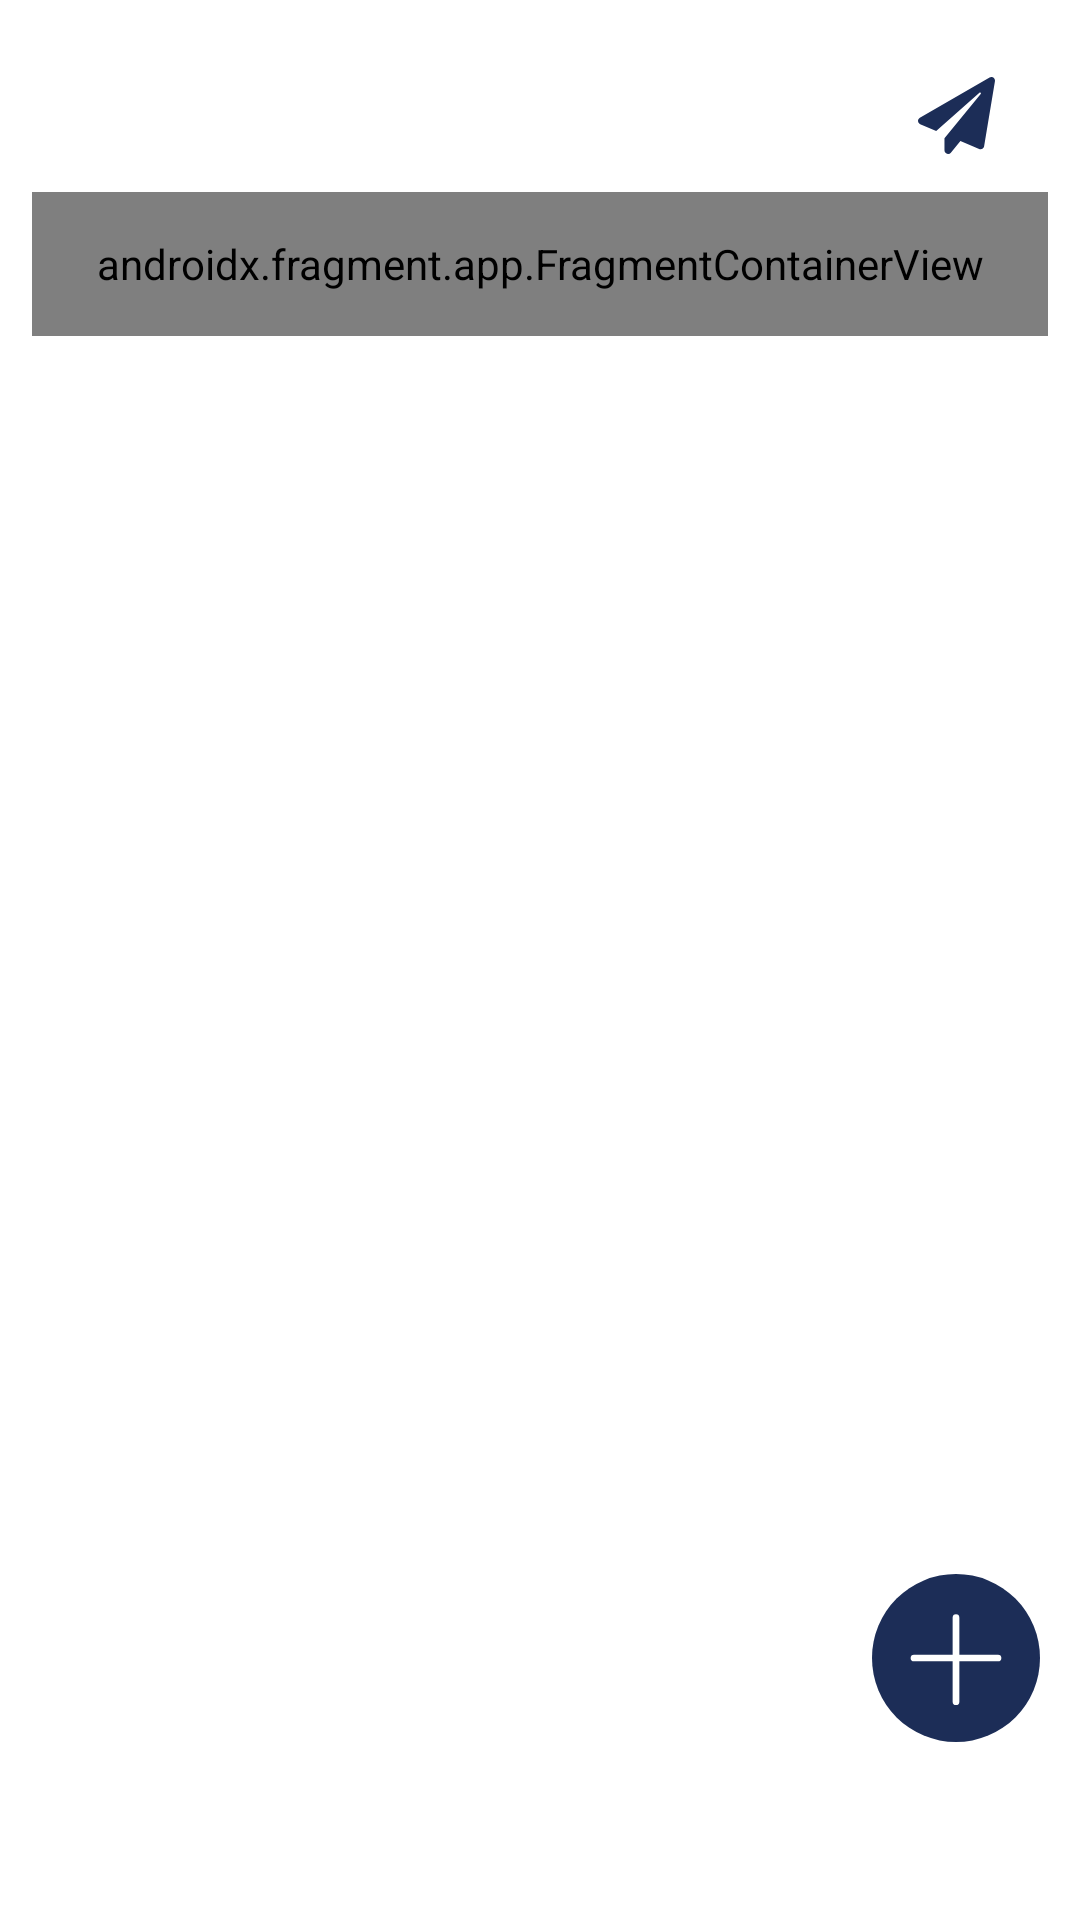

Icons on this 1080*1920 Android screen, each with the point to tap as point (x, y):
paper plane: point (956, 115)
plus: point (956, 1658)
